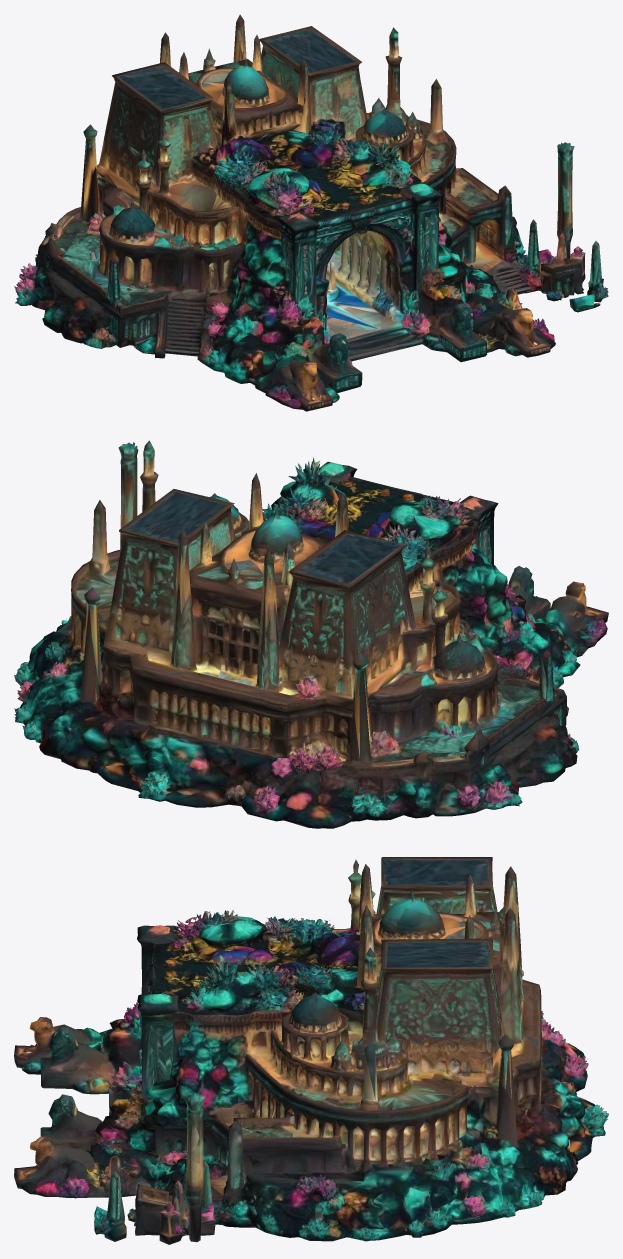
The model's file is Luminous_Coral_Citade.glb.
The picture shows the model from 3 angles, top to bottom: view 1: azimuth 30°, elevation 25°; view 2: azimuth 150°, elevation 25°; view 3: azimuth 270°, elevation 25°; orthographic projection. The views are drawn at different scales.
Parts seen in each view (by area): view 1: Luminous_Coral_Citade; view 2: Luminous_Coral_Citade; view 3: Luminous_Coral_Citade.
Part boxes in pixels (x1,y1,x2,y2): Luminous_Coral_Citade: (14, 14, 608, 411); Luminous_Coral_Citade: (14, 440, 608, 828); Luminous_Coral_Citade: (14, 857, 608, 1244).
Size of the model in its own units: 1.9 by 0.8447 by 1.89.
1 material, 1 textured.
